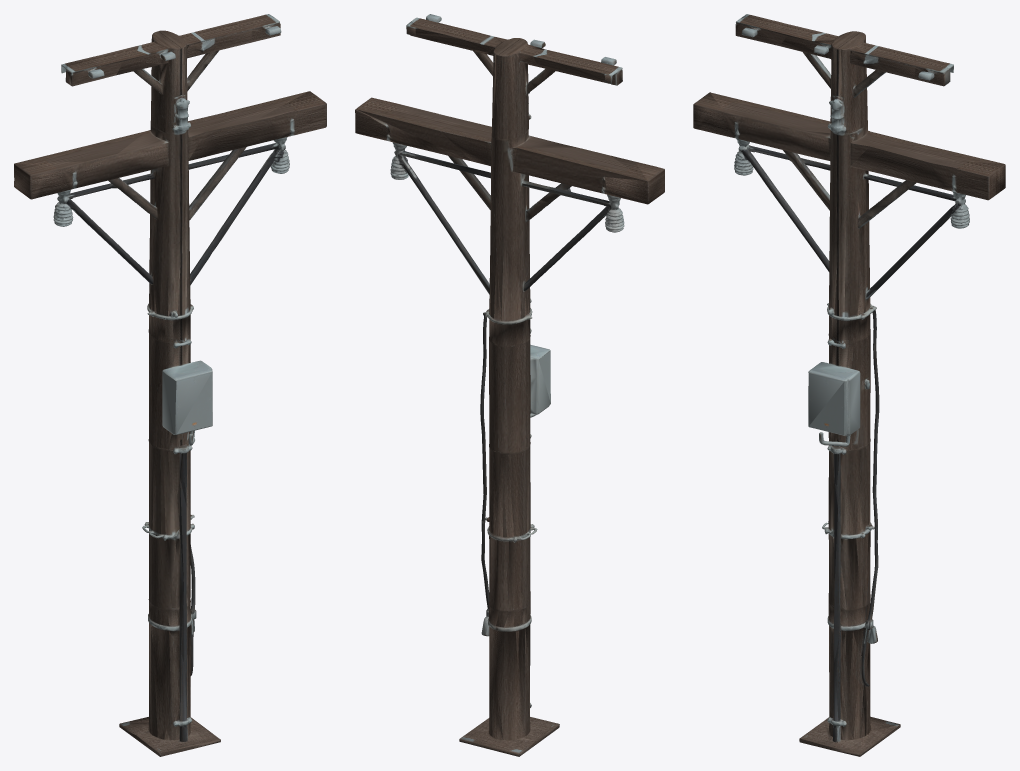
Rendered from poste-duplo-t__01a163ba.glb.
The picture shows the model from 3 angles, left to right: view 1: azimuth 30°, elevation 25°; view 2: azimuth 150°, elevation 25°; view 3: azimuth 330°, elevation 25°; orthographic projection.
Visible parts, largest first — view 1: poste-duplo-t__01a163ba; view 2: poste-duplo-t__01a163ba; view 3: poste-duplo-t__01a163ba.
Boxes of the visible parts, x1,y1,x2,y2 form: poste-duplo-t__01a163ba: (14, 14, 326, 756); poste-duplo-t__01a163ba: (355, 14, 664, 756); poste-duplo-t__01a163ba: (693, 14, 1005, 756).
Size of the model in its own units: 4.91 by 11 by 1.33.
Materials: 1 (1 with a texture image).
